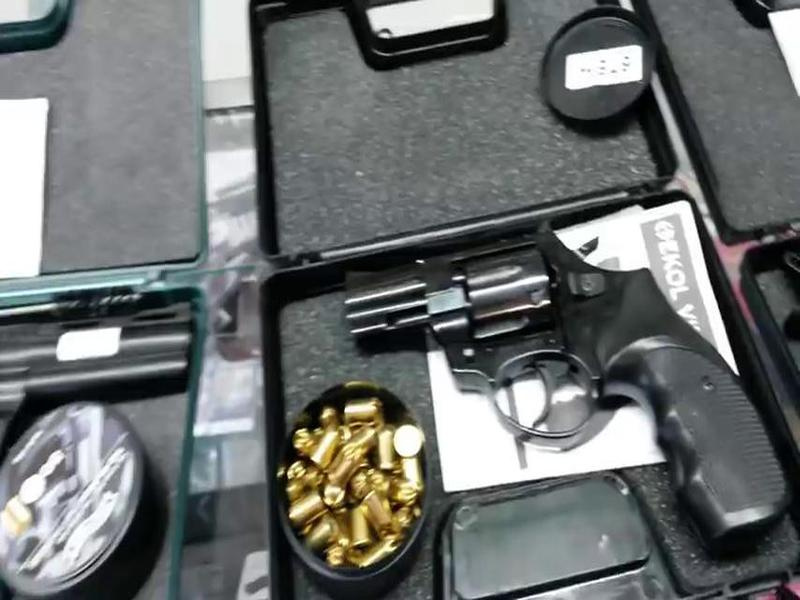Revolver: (351, 208, 787, 567)
